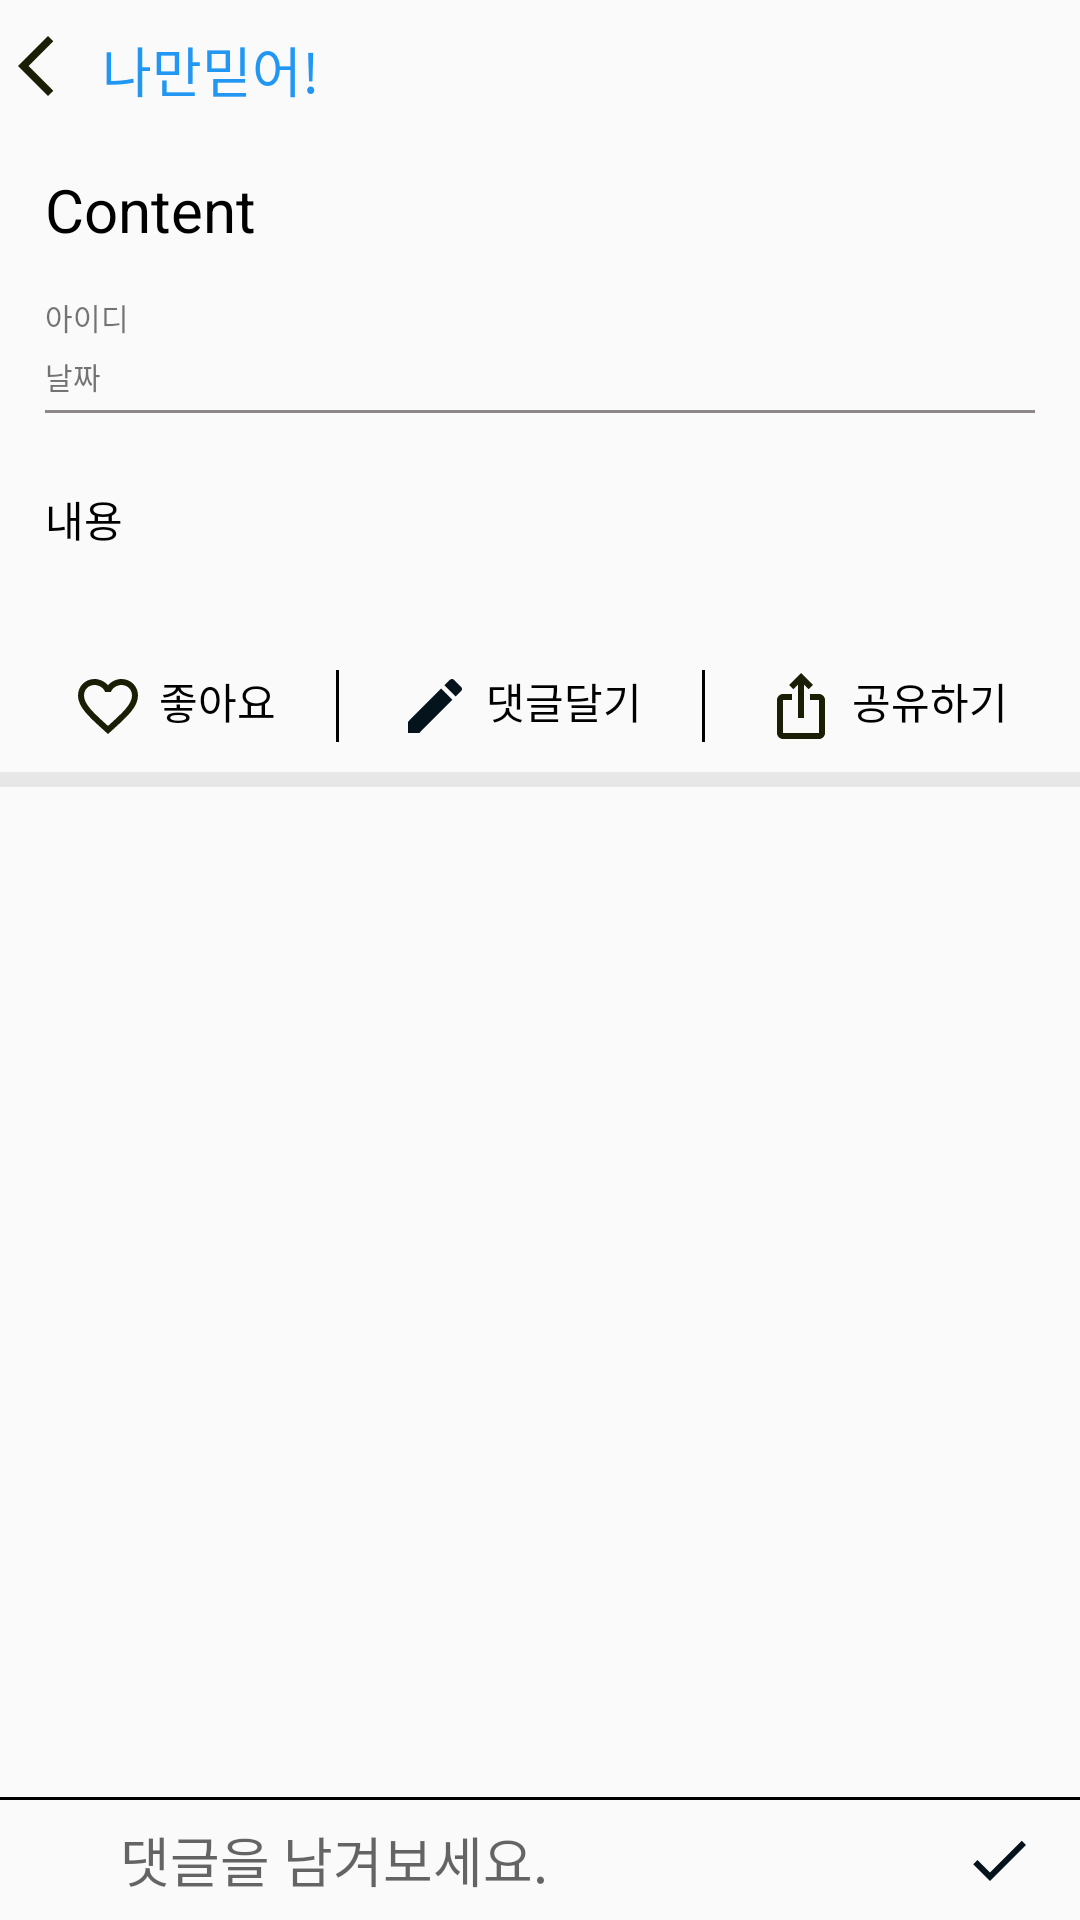

Named icons in this screenshot (1080w x 1920h) and their bounding boxes, (x1, y1, x2, y2):
arrow back: (18, 36, 53, 96)
check: (973, 1841, 1026, 1881)
edit: (408, 679, 462, 733)
